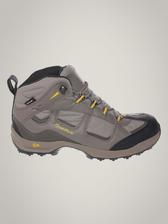shoes: (5, 63, 162, 161)
